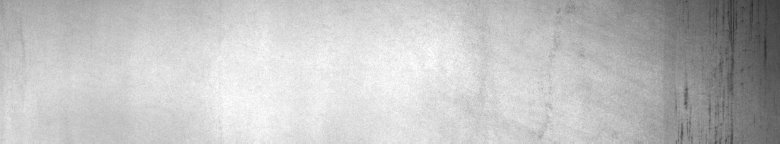ka: (675, 4, 772, 136)
